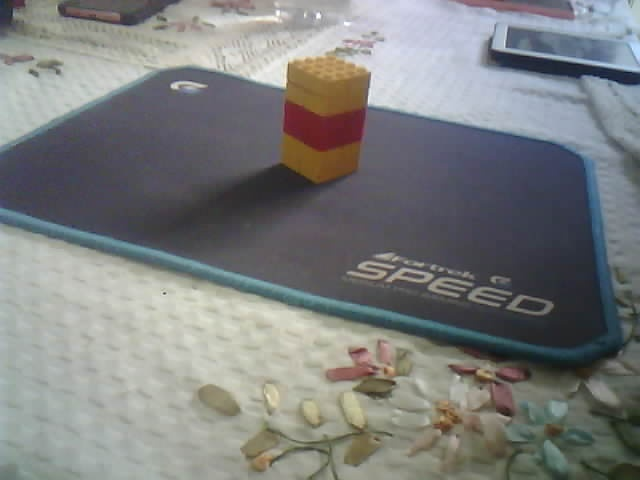lego: (277, 54, 371, 185)
